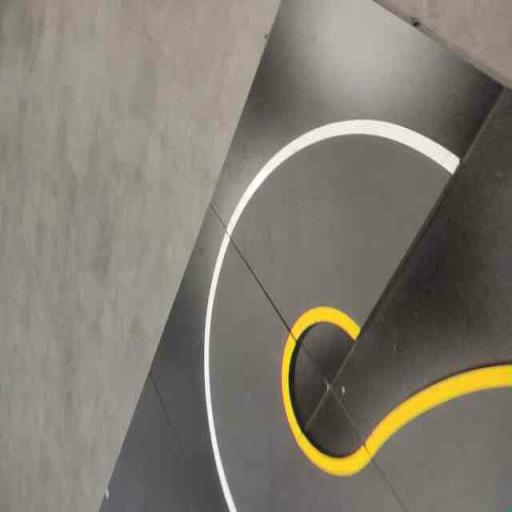left: (226, 58, 465, 348)
